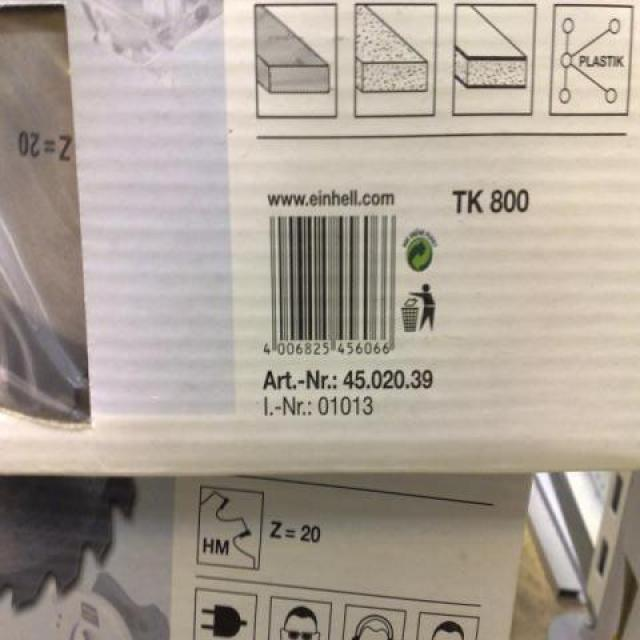Barcode: (257, 209, 400, 363)
